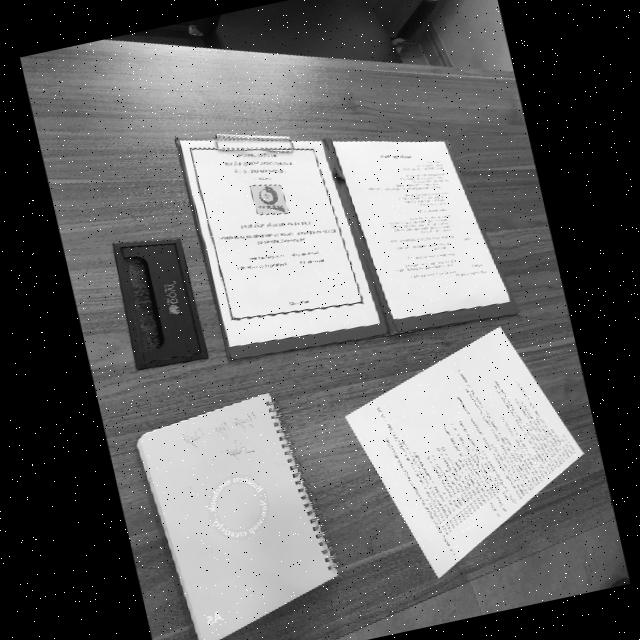document: (346, 327, 583, 577), (137, 392, 337, 640), (179, 139, 380, 346), (332, 140, 511, 319)
